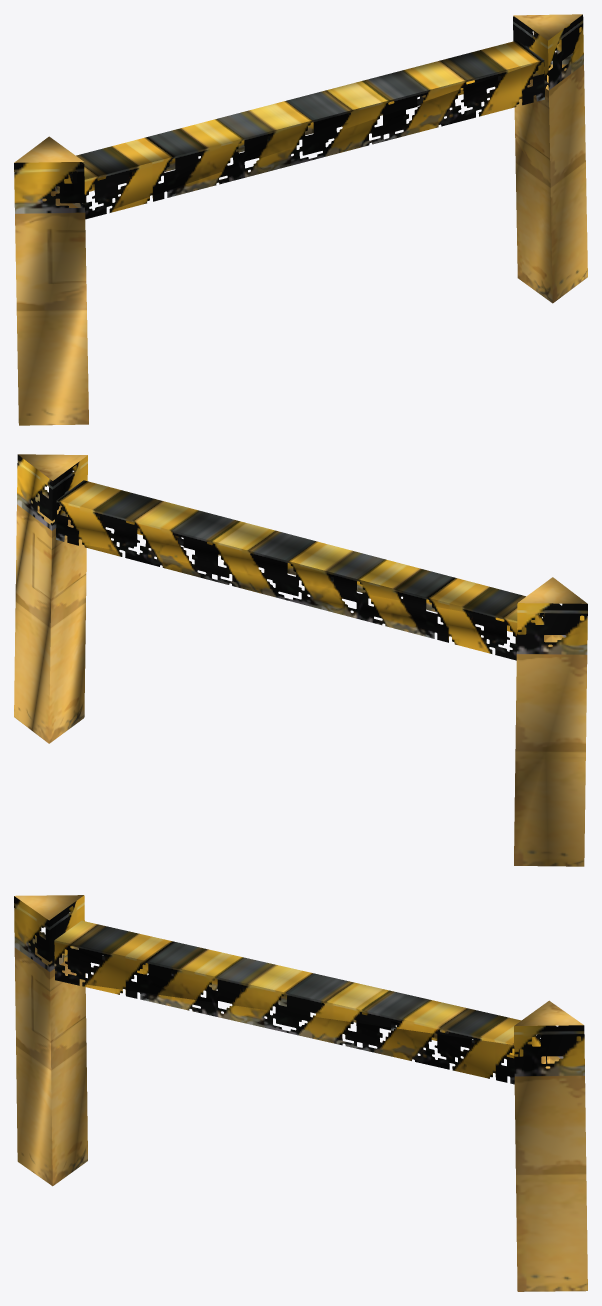
File: passunderfence.fbx
3 renders of one model, top to bottom at view 1: azimuth 30°, elevation 25°; view 2: azimuth 150°, elevation 25°; view 3: azimuth 330°, elevation 25°, orthographic.
Visible parts, largest first — view 1: Mesh_0072.rip; view 2: Mesh_0072.rip; view 3: Mesh_0072.rip.
Boxes of the visible parts, left/top/right/bottom form: Mesh_0072.rip: left=14, top=14, right=587, bottom=425; Mesh_0072.rip: left=14, top=454, right=587, bottom=866; Mesh_0072.rip: left=14, top=895, right=587, bottom=1291.
Size of the model in its own units: 655 by 299 by 71.39.
